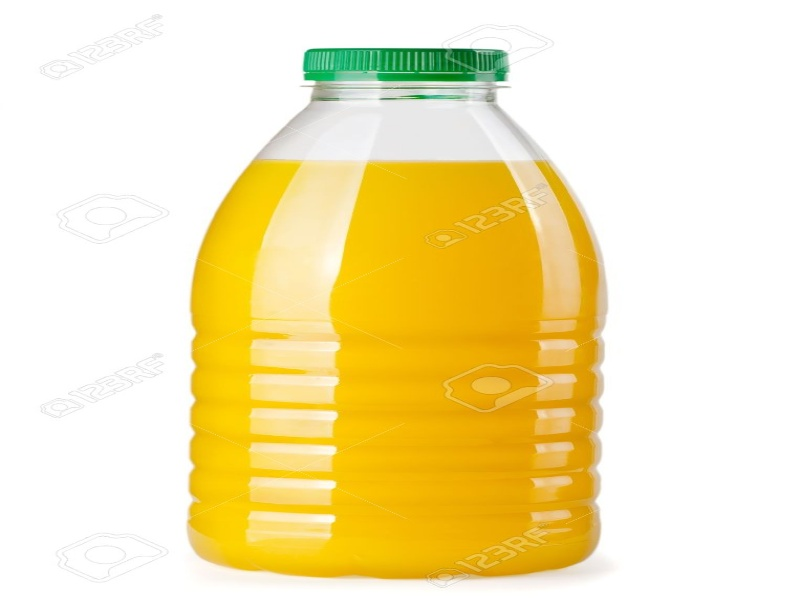Jugo de naranja: (190, 49, 601, 579)
